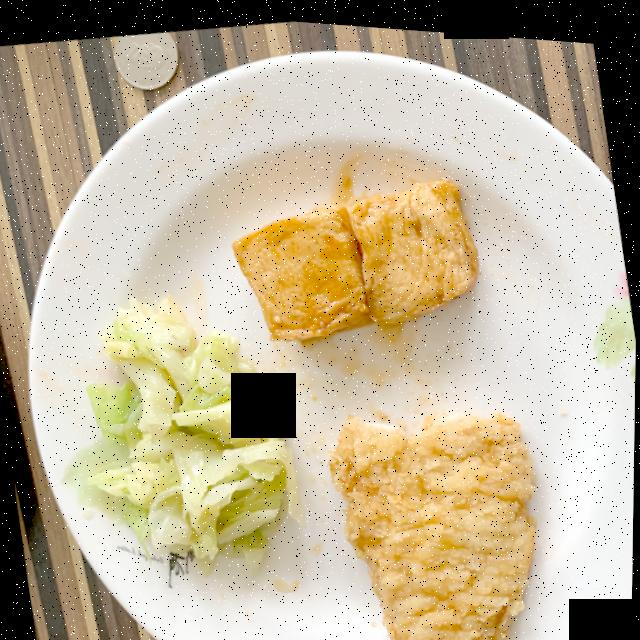cabbage: (88, 294, 305, 564)
coin: (114, 30, 179, 88)
creamy tofu: (233, 172, 480, 336)
fried chicken cutlet: (330, 404, 538, 640)
